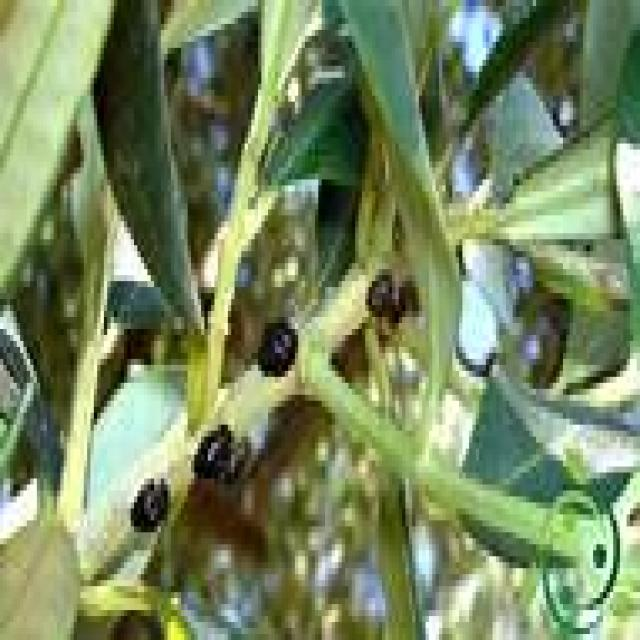Black Scale: (191, 425, 248, 484), (258, 317, 295, 371), (131, 479, 168, 526)
